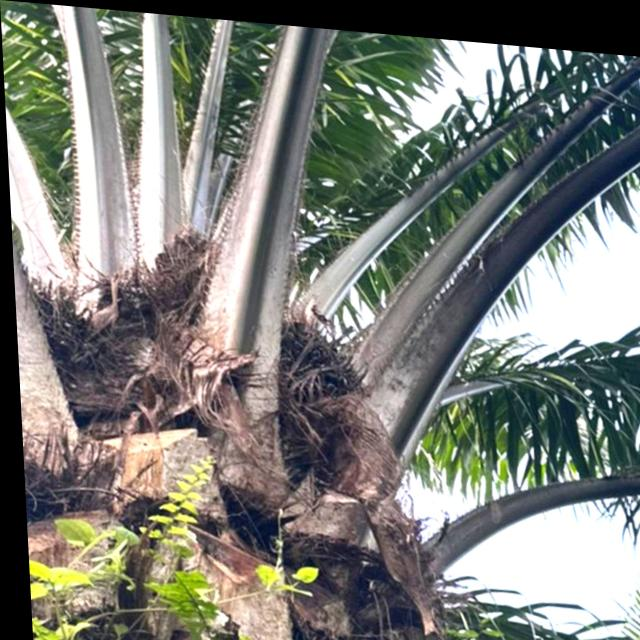unripe: (272, 303, 371, 431)
